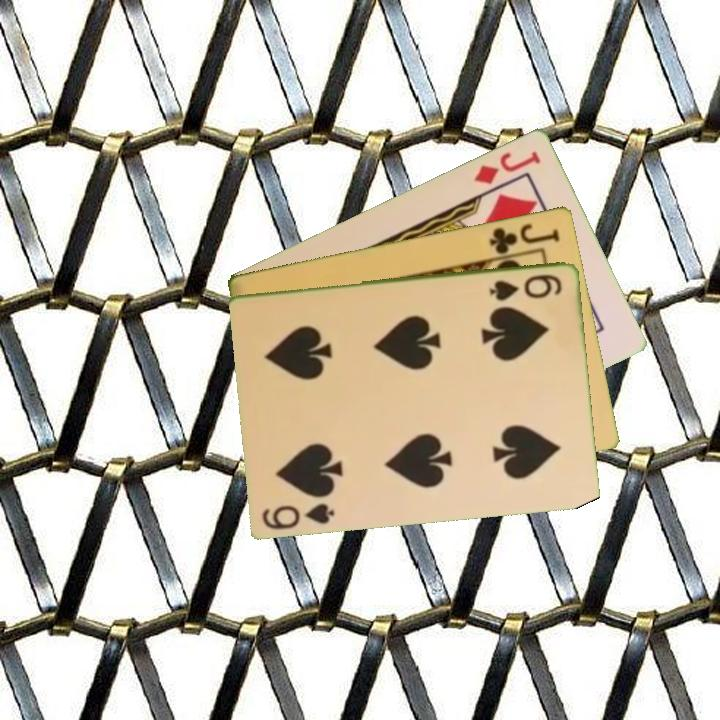6s: (486, 270, 565, 303), (259, 499, 338, 532)
Jc: (486, 219, 563, 257)
Jd: (470, 147, 544, 187)
